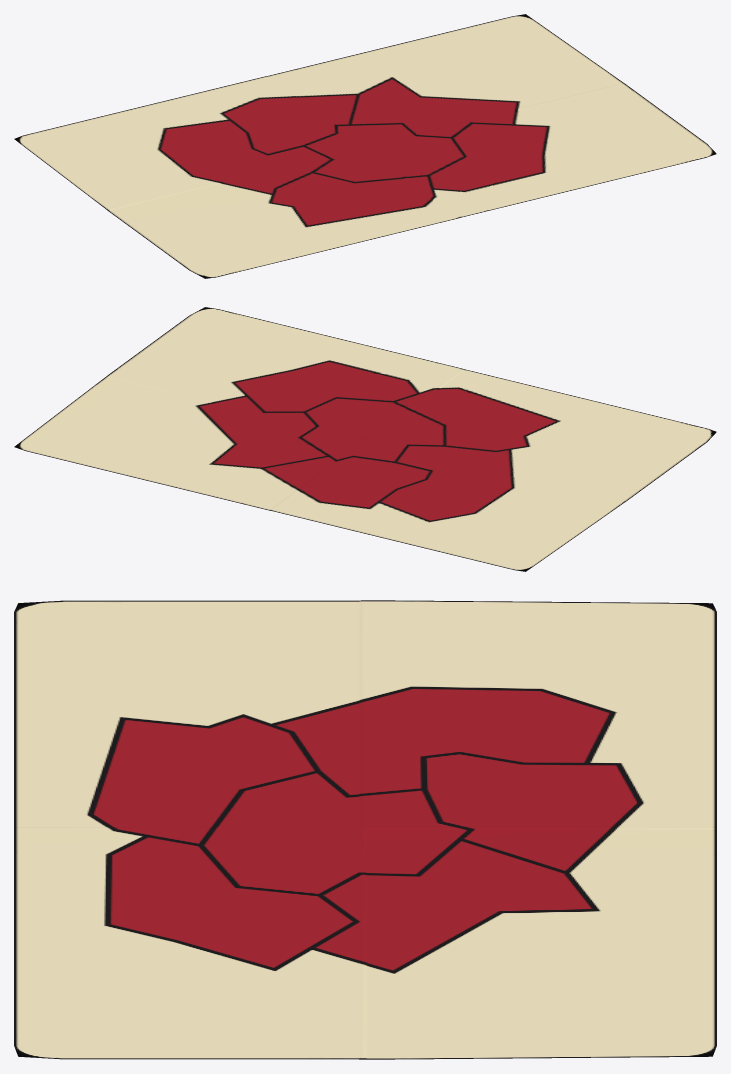
Rendered from map.fbx.
The picture shows the model from 3 angles, top to bottom: view 1: azimuth 30°, elevation 25°; view 2: azimuth 150°, elevation 25°; view 3: azimuth 270°, elevation 25°; orthographic projection. The views are drawn at different scales.
Parts seen in each view (by area): view 1: pPlane1; view 2: pPlane1; view 3: pPlane1.
Boxes of the visible parts, x1,y1,x2,y2 form: pPlane1: (14,14,716,278); pPlane1: (14,307,716,571); pPlane1: (14,600,716,1059).
Size of the model in its own units: 25.5 by 0.01 by 16.5.
